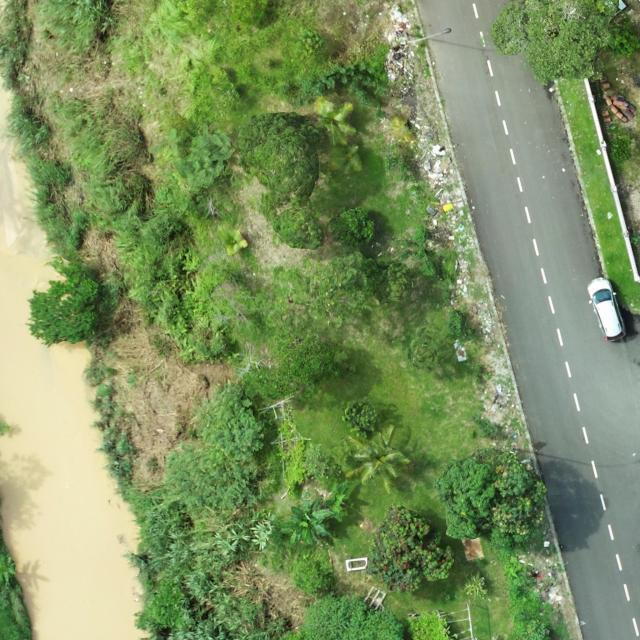Tree: (192, 250, 414, 334), (164, 380, 266, 516), (432, 448, 548, 548), (489, 0, 620, 84), (364, 502, 456, 595), (238, 111, 324, 209), (25, 255, 103, 348), (344, 424, 411, 494), (278, 490, 336, 548), (326, 206, 376, 252), (341, 400, 379, 440)
